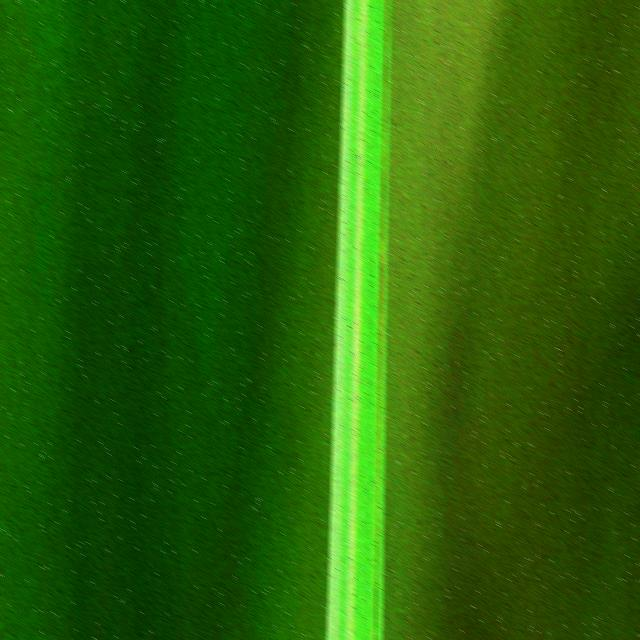BLS: (373, 2, 389, 640)
